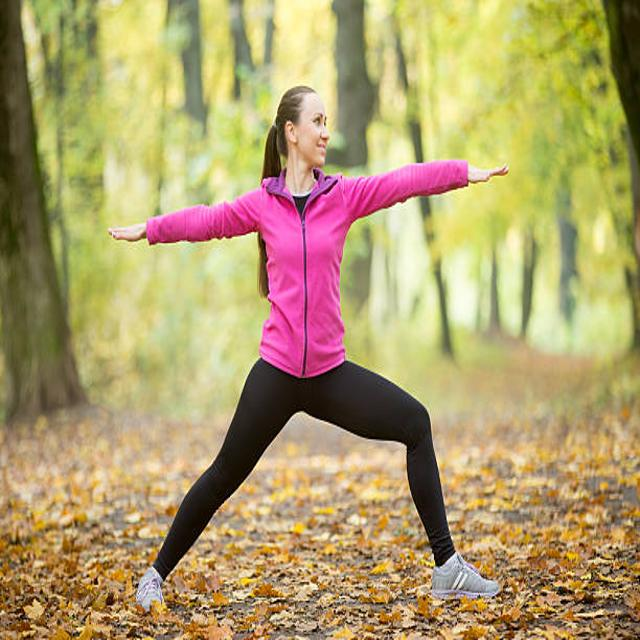Warrior_II: (101, 75, 514, 606)
